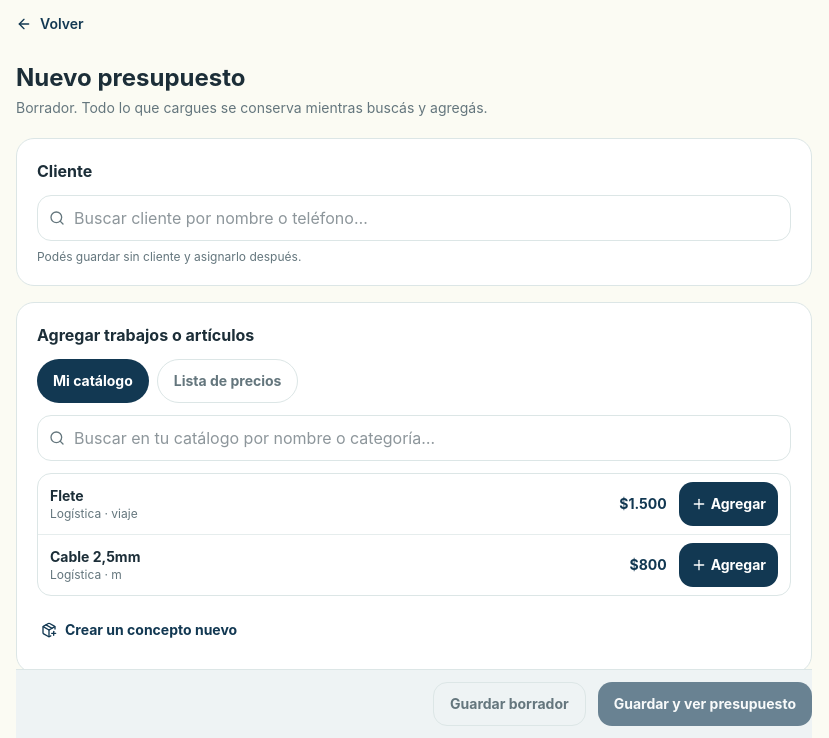
Test: guardado: sin duplicados › doble clic en Guardar envía UNA sola solicitud
Step 1. Click the button with aria-label "Agregar Flete" → (728, 504), box [679,482,778,526]
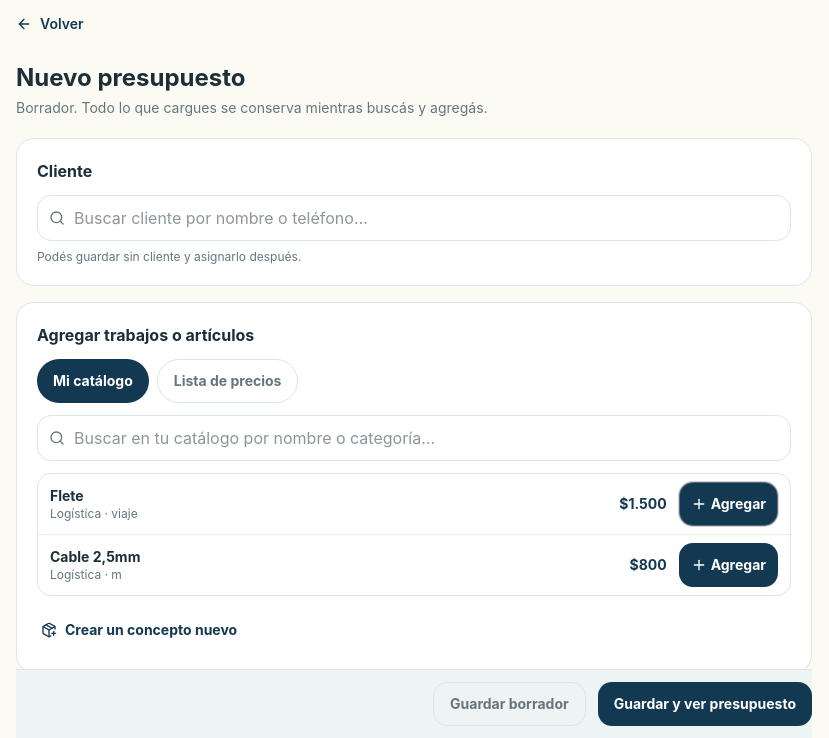
Step 2. Double-click the button "Guardar borrador" → (509, 704), box [433,682,586,726]
(page scrolled)
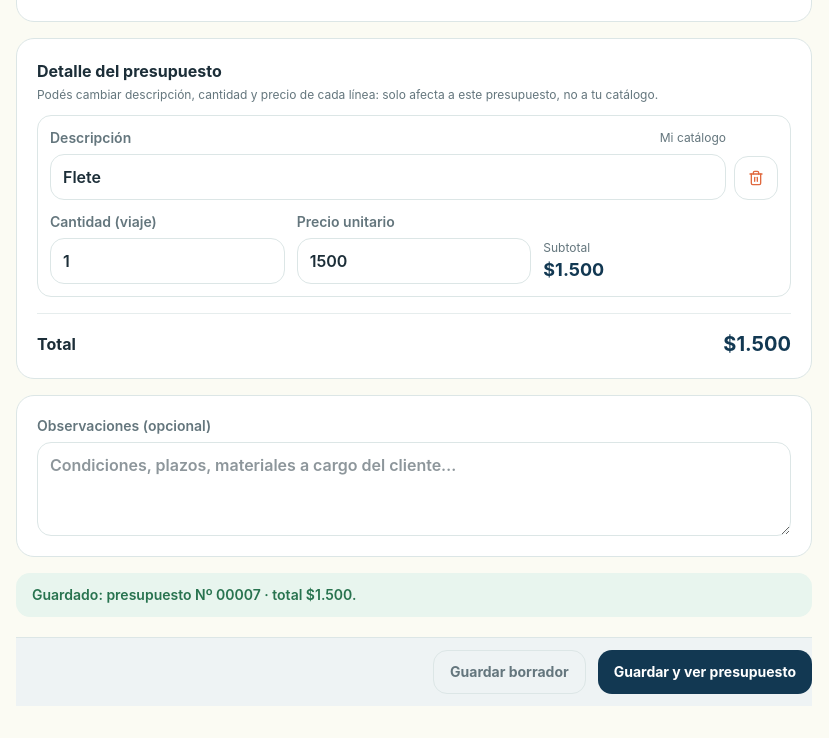
Expected: the text "Guardado: presupuesto Nº 00007 · total $1.500." is shown, [16,573,812,617]
